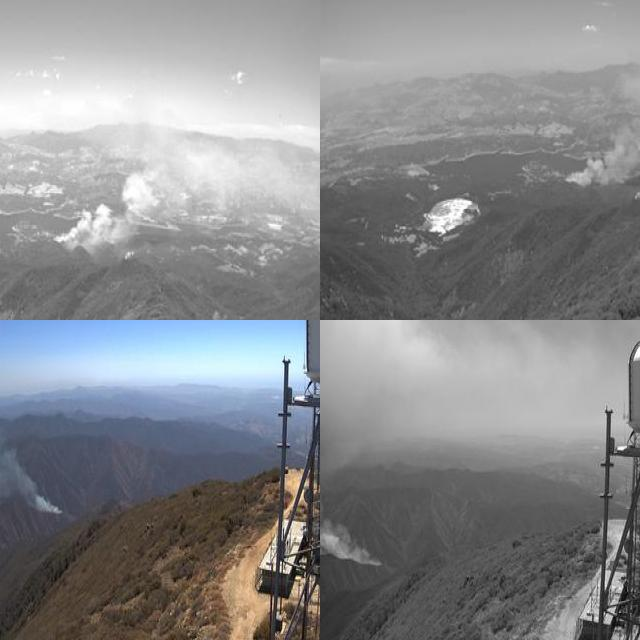smoke: (54, 118, 278, 253), (320, 320, 396, 572), (562, 54, 640, 190), (0, 423, 60, 517)
